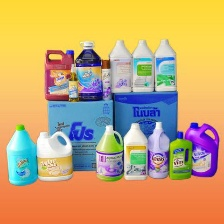aerosol_cans: (99, 58, 113, 103)
book: (108, 85, 181, 174), (44, 94, 118, 176)
cleaning_solution: (32, 128, 76, 182), (181, 120, 220, 179), (4, 122, 39, 187), (71, 39, 104, 103), (40, 46, 76, 103), (93, 123, 126, 182), (119, 122, 149, 182), (145, 119, 171, 181), (165, 128, 194, 181), (108, 36, 134, 94), (129, 38, 155, 93), (152, 37, 177, 93), (64, 61, 81, 104)
